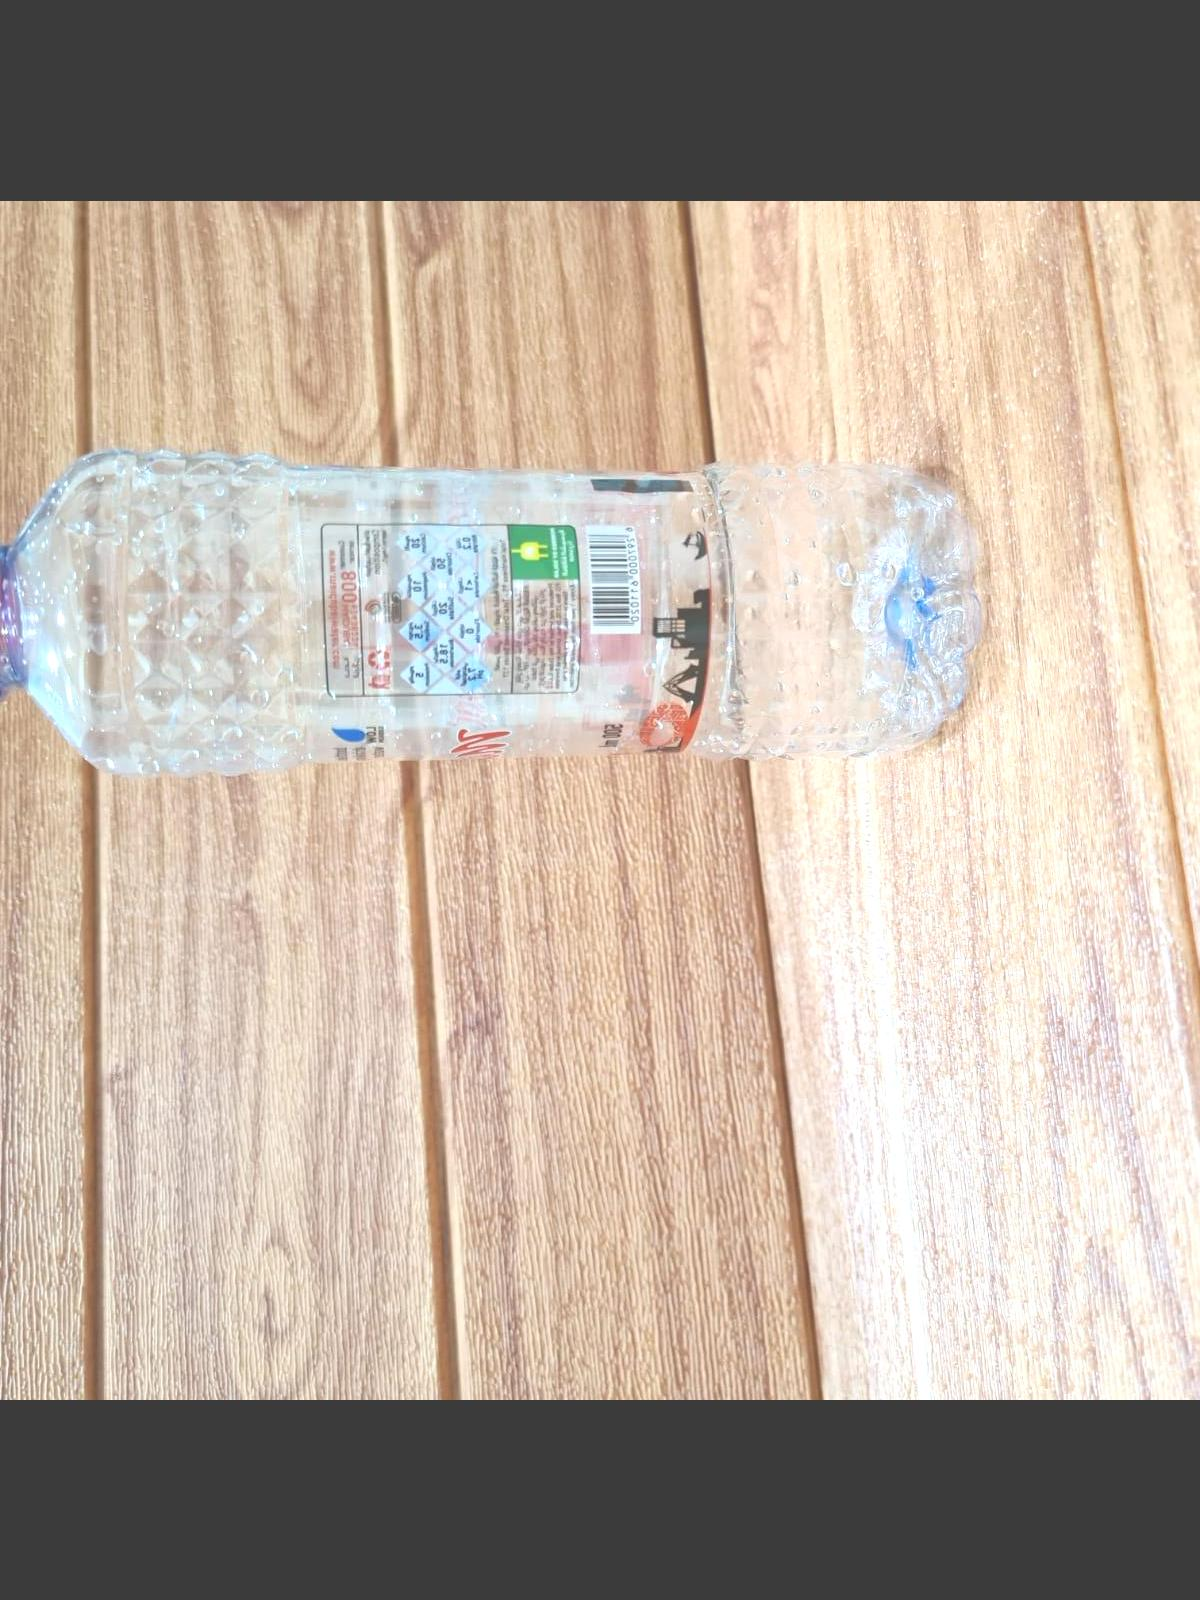bottle: (0, 428, 977, 800)
